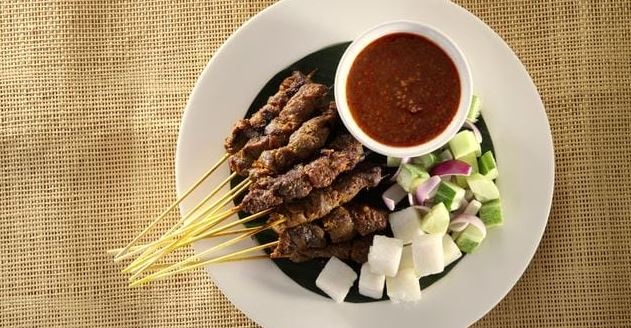sate_madura: (177, 55, 417, 281)
